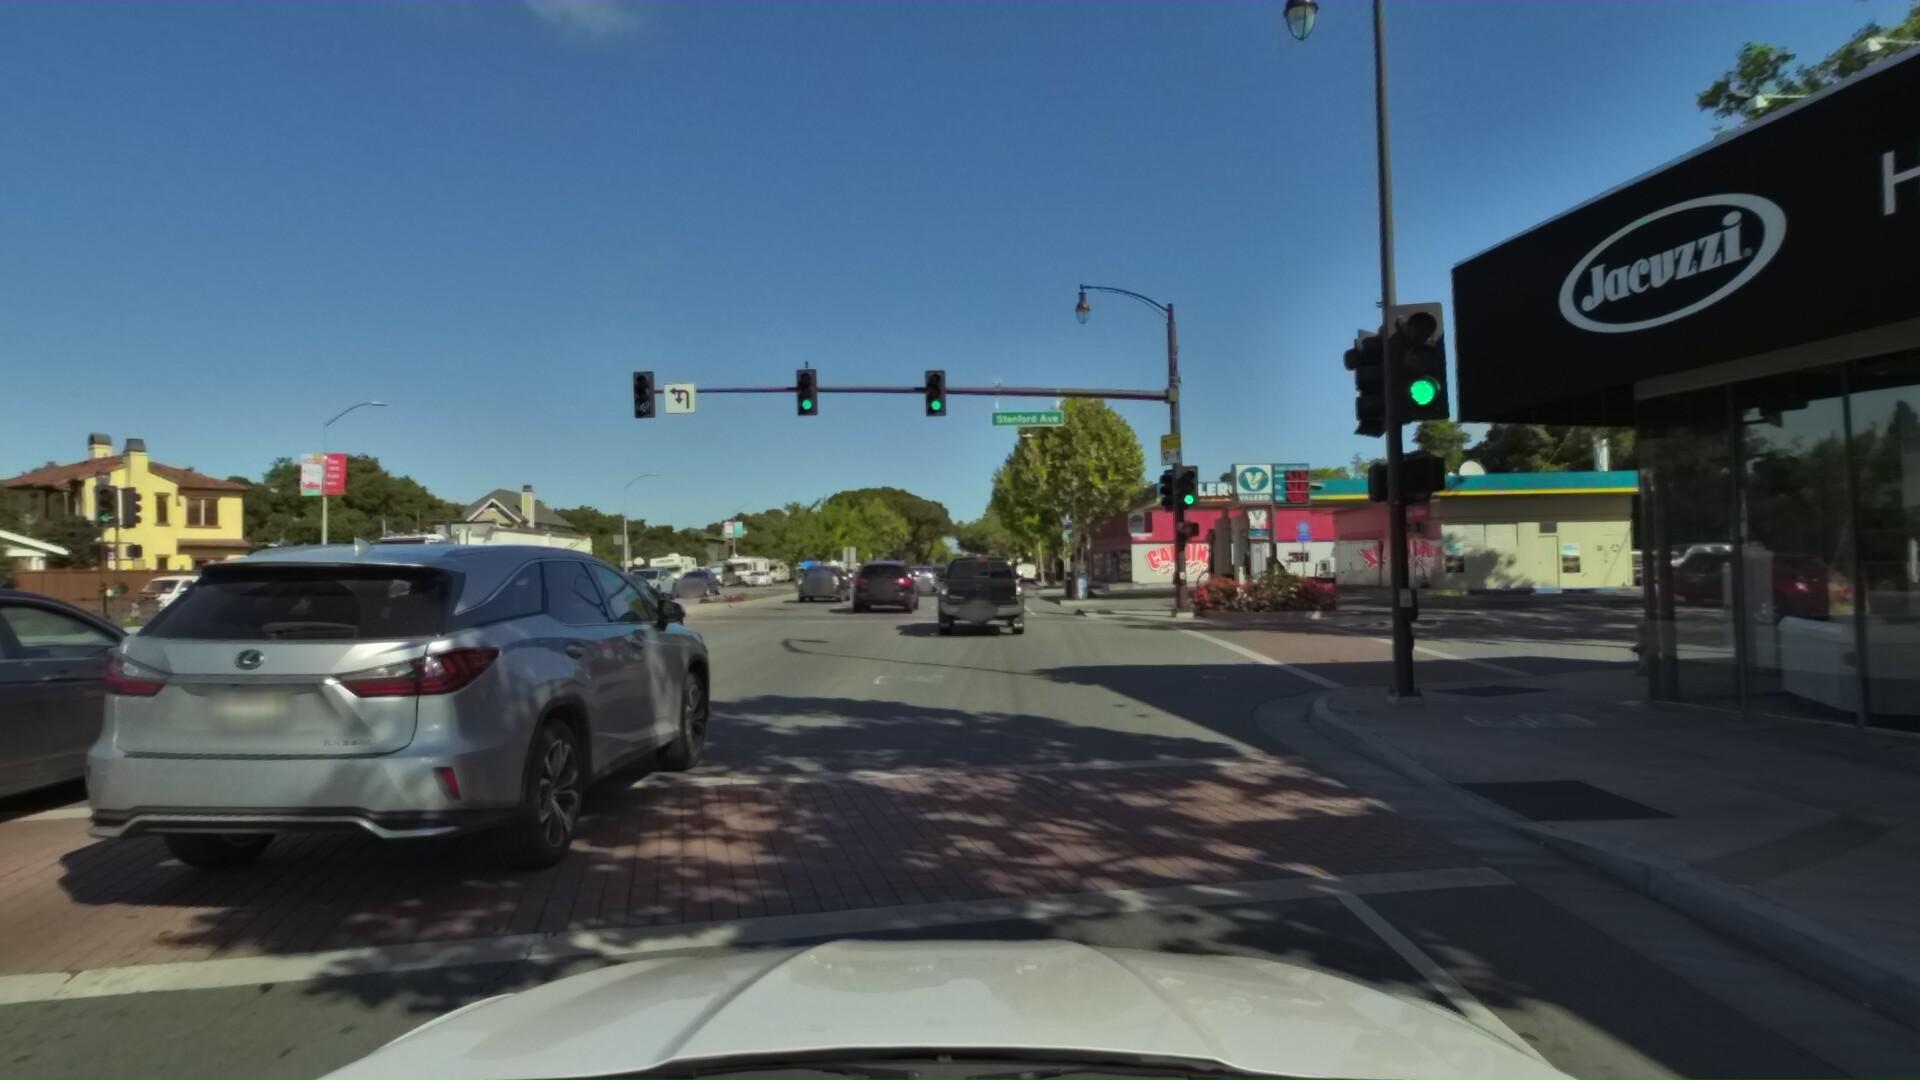car: (34, 506, 736, 951), (0, 562, 303, 978), (498, 568, 698, 676), (1660, 538, 1844, 607), (1611, 535, 1768, 589), (938, 551, 1027, 638), (1580, 541, 1713, 588), (847, 560, 919, 620), (611, 558, 680, 601), (793, 560, 853, 611), (667, 563, 725, 595), (897, 566, 940, 597), (1011, 556, 1036, 582), (923, 564, 949, 585)
other_vehicle: (644, 547, 703, 589)
truck: (309, 502, 597, 630), (1309, 520, 1477, 582)
